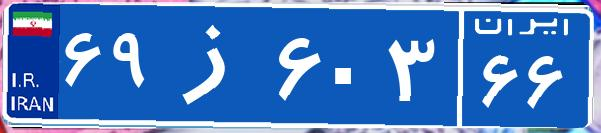0: (330, 28, 385, 110)
3: (385, 28, 445, 110)
6: (273, 28, 330, 110), (57, 26, 110, 107), (475, 38, 525, 113), (525, 38, 570, 115)
9: (110, 28, 158, 105)
ز: (158, 15, 273, 115)
